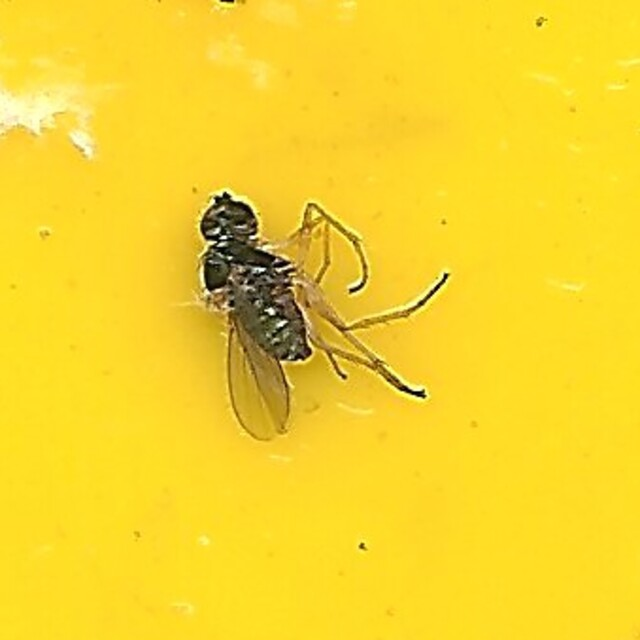Brachycera: (189, 190, 451, 450)
